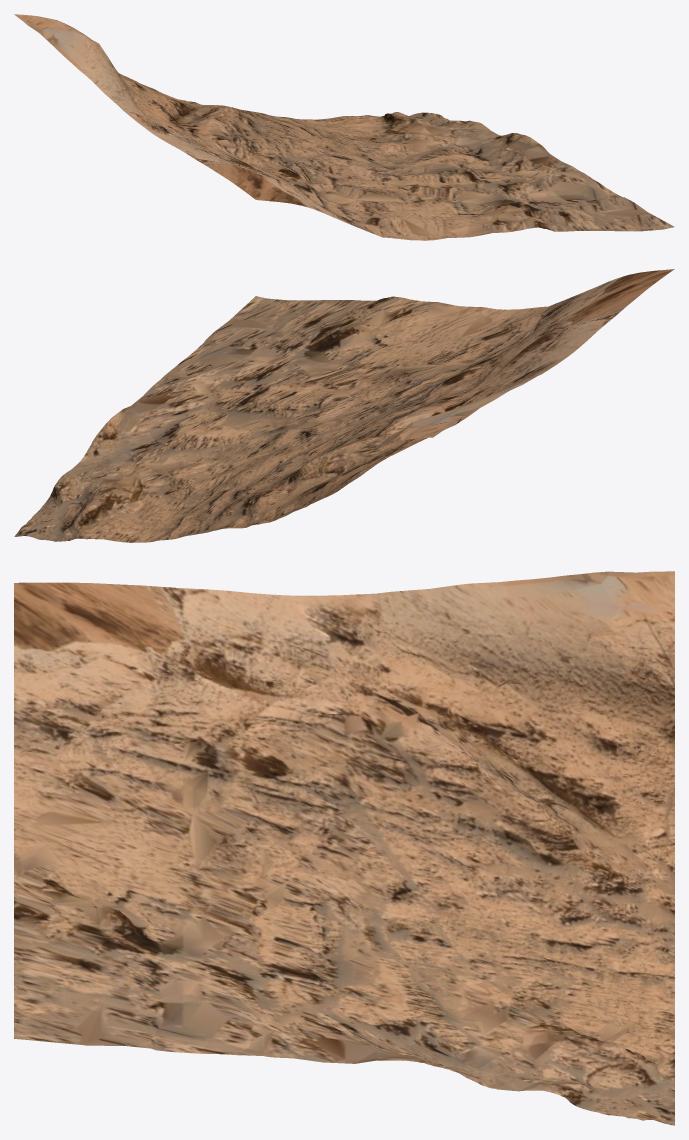
The picture shows the model from 3 angles, top to bottom: view 1: azimuth 30°, elevation 25°; view 2: azimuth 150°, elevation 25°; view 3: azimuth 270°, elevation 25°; orthographic projection. The views are drawn at different scales.
Bounding box in the file's own units: 8.36 × 3.84 × 8.36.
Materials: 3 (3 with a texture image).
